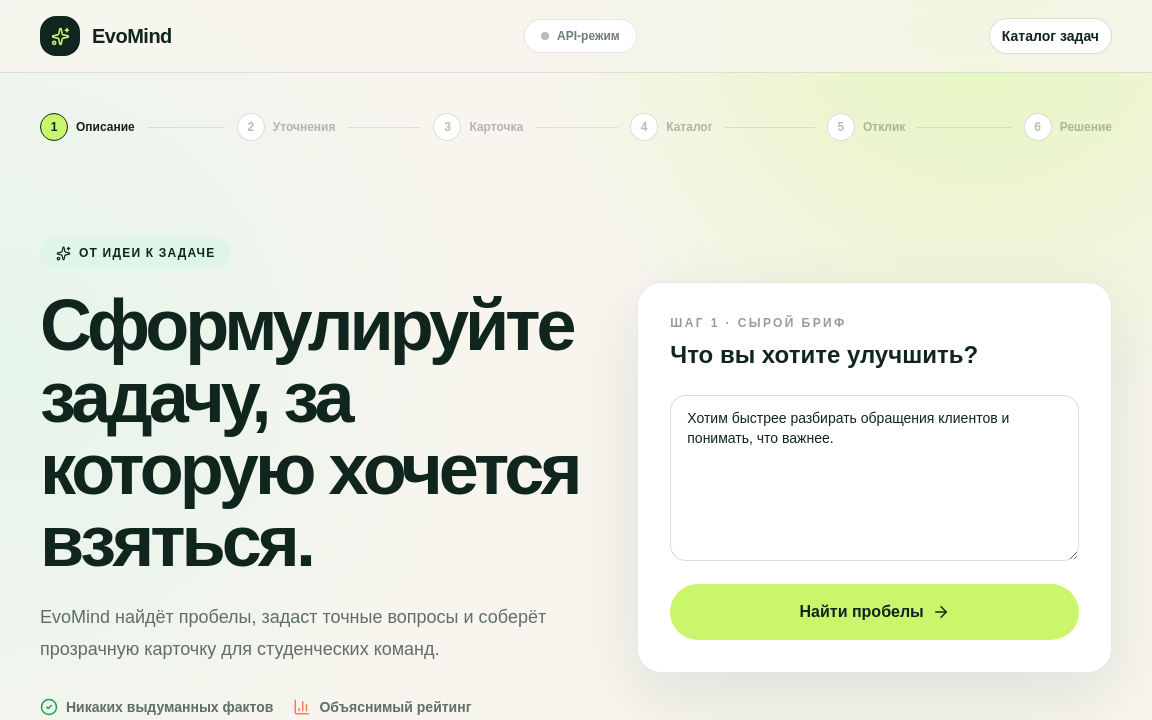
Test case: DemoFlow › shows all catalog tasks and filters to an empty state
Step 1. Click the button "Каталог задач" → (1050, 36), box [989,18,1112,54]
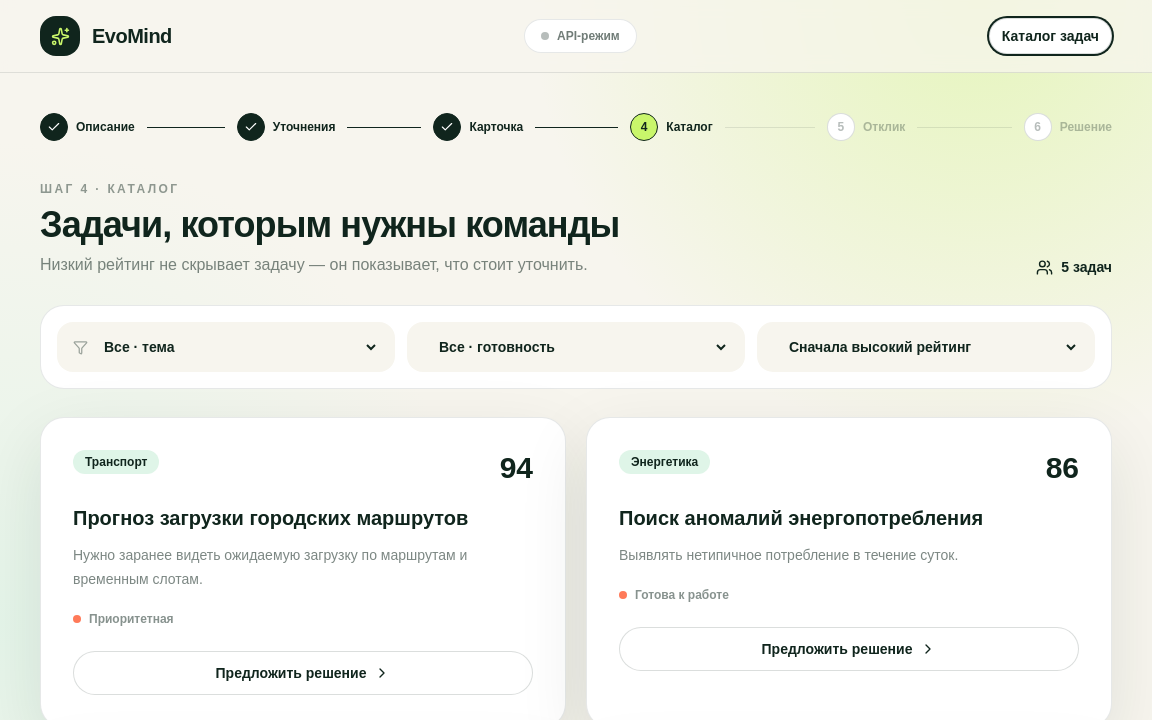
Result: the heading "Прогноз загрузки городских маршрутов" is shown at [73,506,533,531]
Step 2. Select "HR" in the dropdown named "Тема" → (240, 347), box [100,330,379,364]
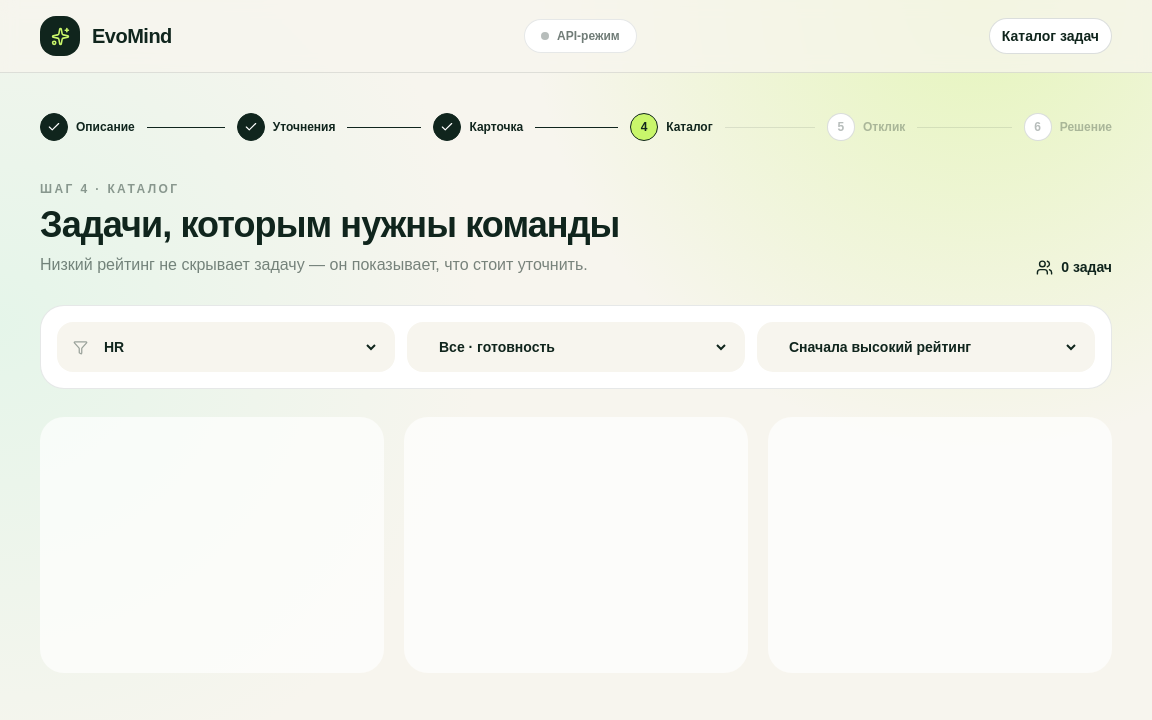
Step 3. Select "Приоритетная" in the dropdown named "Готовность" → (582, 347), box [435,330,729,364]
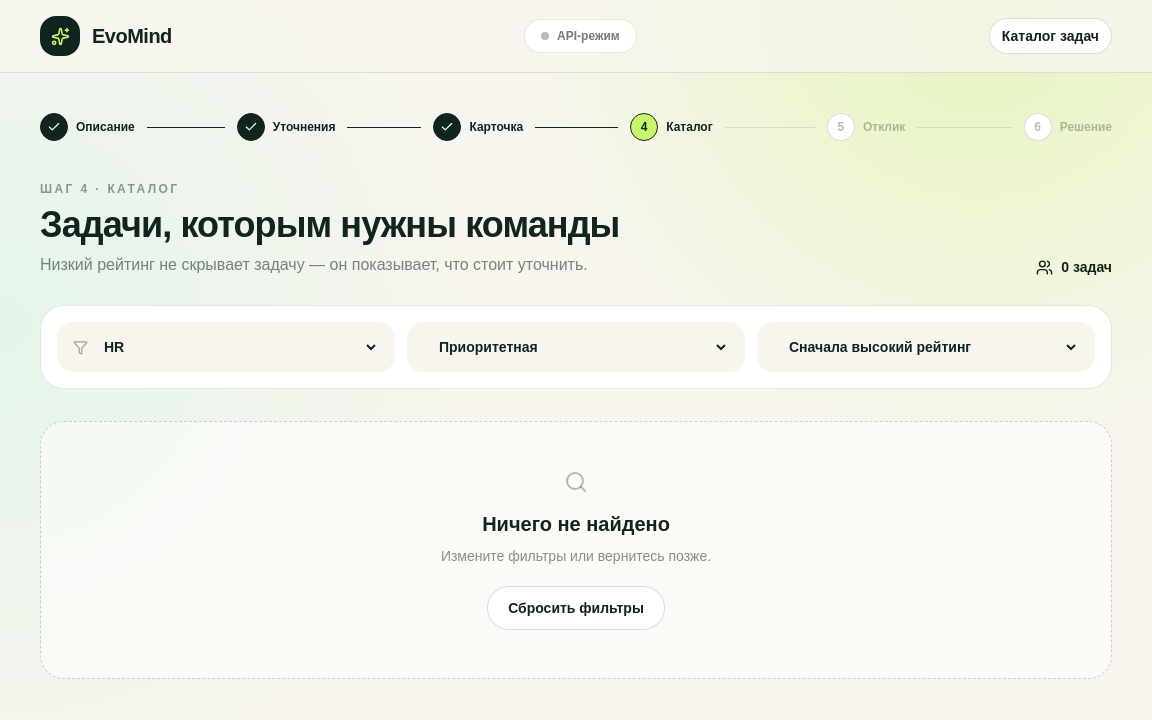
Result: the heading "Ничего не найдено" is shown at [482,513,670,535]
